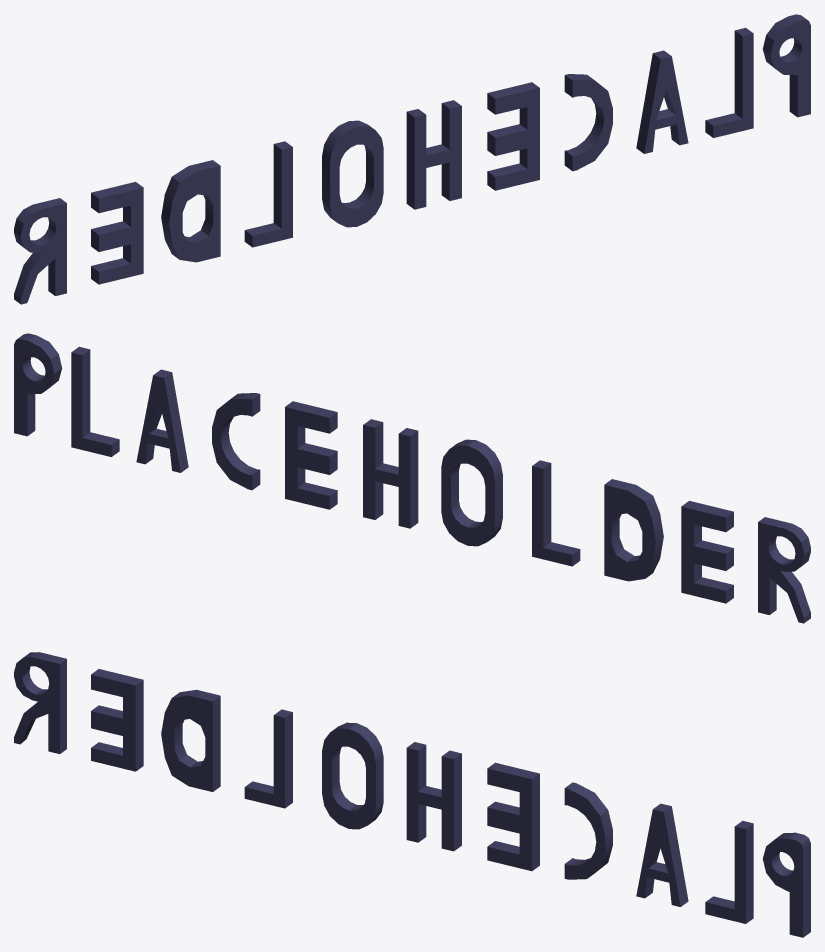
Rendered from placeholder.fbx.
3 renders of one model, top to bottom at view 1: azimuth 30°, elevation 25°; view 2: azimuth 150°, elevation 25°; view 3: azimuth 330°, elevation 25°, orthographic.
Visible parts, largest first — view 1: pCube21; view 2: pCube21; view 3: pCube21.
Part boxes in pixels (x1,y1,x2,y2): pCube21: [14, 14, 810, 304]; pCube21: [14, 333, 810, 623]; pCube21: [14, 652, 810, 937].
Bounding box in the file's own units: 19.55 × 2.37 × 0.3408.
